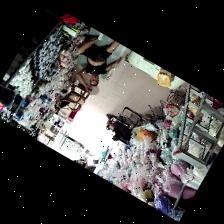person: (77, 33, 121, 90), (106, 114, 115, 129), (82, 159, 87, 167)
